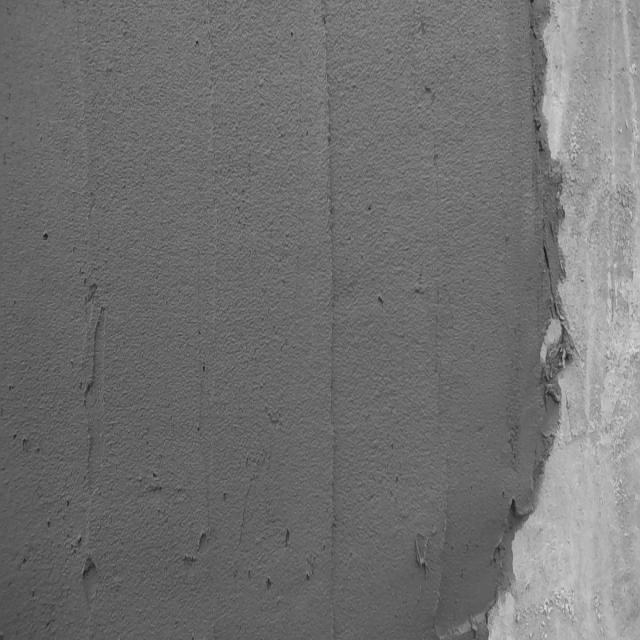trowels marks: (320, 10, 337, 596)
